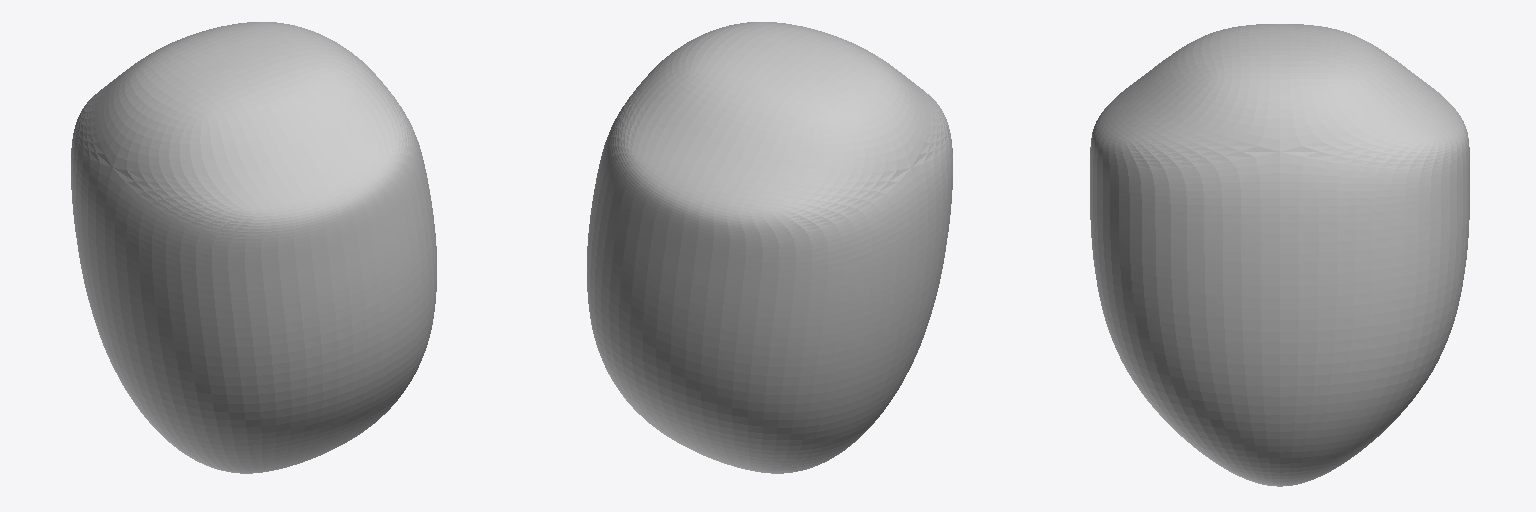
The model's file is cabeza.obj.
The picture shows the model from 3 angles: view 1: azimuth 30°, elevation 25°; view 2: azimuth 150°, elevation 25°; view 3: azimuth 270°, elevation 25°; orthographic projection.
Parts seen in each view (by area): view 1: Mesh; view 2: Mesh; view 3: Mesh.
Part boxes in pixels (bbox=[...]): Mesh: bbox=[71, 22, 436, 473]; Mesh: bbox=[587, 22, 952, 473]; Mesh: bbox=[1090, 24, 1469, 486].
Size of the model in its own units: 1.21 by 1.61 by 1.32.